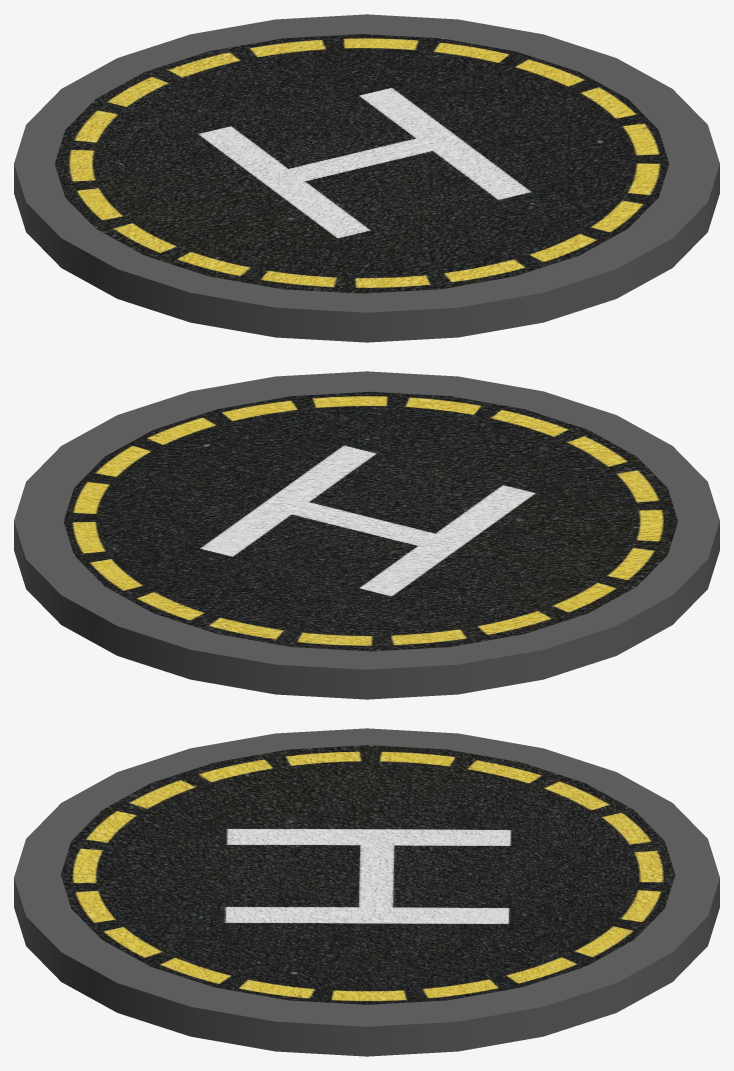
File: platform.glb
The picture shows the model from 3 angles, top to bottom: view 1: azimuth 30°, elevation 25°; view 2: azimuth 150°, elevation 25°; view 3: azimuth 270°, elevation 25°; orthographic projection.
Parts seen in each view (by area): view 1: Geom3D, Geom3D.001; view 2: Geom3D, Geom3D.001; view 3: Geom3D, Geom3D.001.
Boxes of the visible parts, left/top/right/bottom form: Geom3D: left=54, top=34, right=669, bottom=293; Geom3D.001: left=14, top=14, right=719, bottom=342; Geom3D: left=63, top=391, right=677, bottom=651; Geom3D.001: left=14, top=371, right=719, bottom=699; Geom3D: left=61, top=745, right=675, bottom=1004; Geom3D.001: left=14, top=728, right=719, bottom=1056.
Bounding box in the file's own units: 0.15 × 0.011 × 0.15.
Materials: 4 (1 with a texture image).
